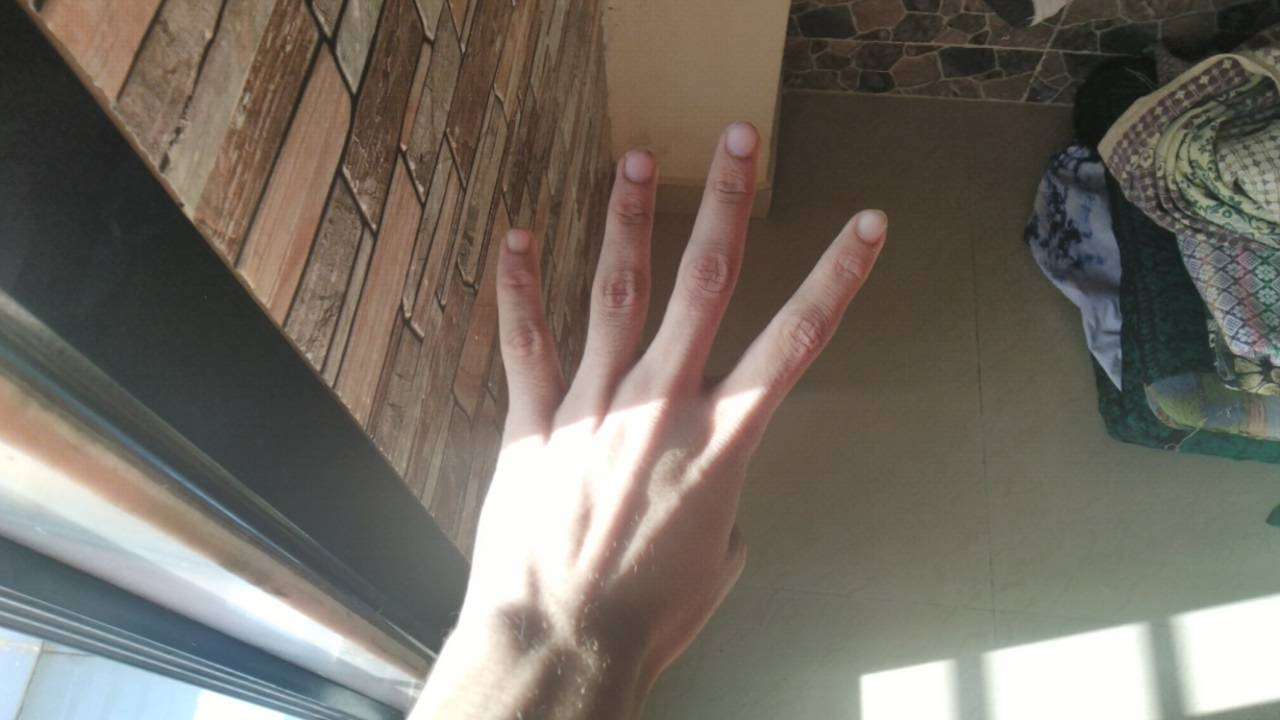fingertip: (840, 200, 898, 254), (710, 114, 764, 168), (490, 214, 542, 268), (610, 142, 664, 190)
